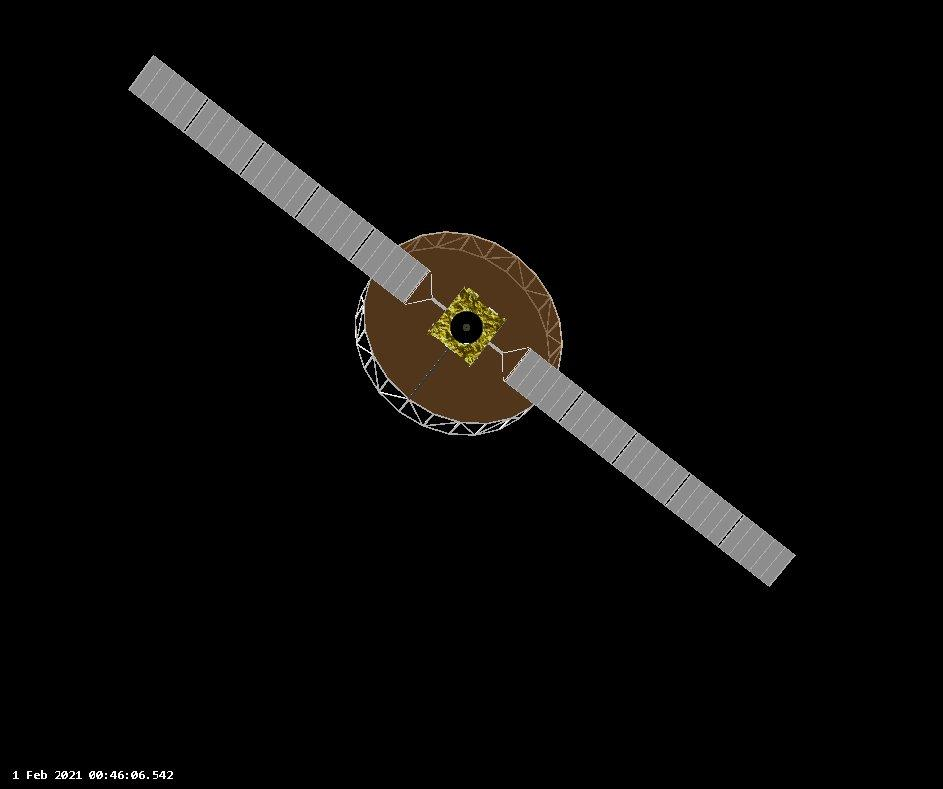antenna: (362, 229, 566, 425)
body: (428, 285, 508, 368)
solar: (125, 55, 434, 305), (500, 346, 796, 589)
